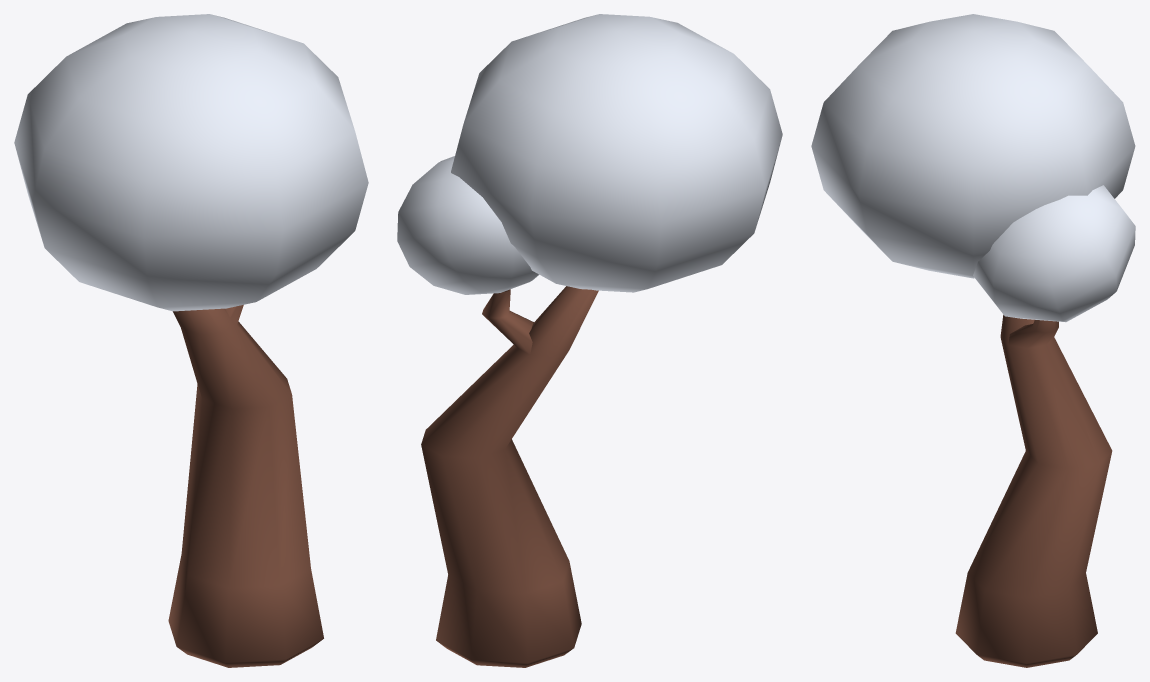
The model's file is tree-34_col.fbx.
The picture shows the model from 3 angles, left to right: view 1: azimuth 30°, elevation 25°; view 2: azimuth 150°, elevation 25°; view 3: azimuth 270°, elevation 25°; orthographic projection. The views are drawn at different scales.
Visible parts, largest first — view 1: tree-34.col; view 2: tree-34.col; view 3: tree-34.col.
Part boxes in pixels (x1=…): tree-34.col: x1=14, y1=14, x2=368, y2=667; tree-34.col: x1=397, y1=14, x2=782, y2=667; tree-34.col: x1=811, y1=14, x2=1135, y2=667.
Bounding box in the file's own units: 0.3898 × 0.7133 × 0.365.
1 material, 1 textured.
